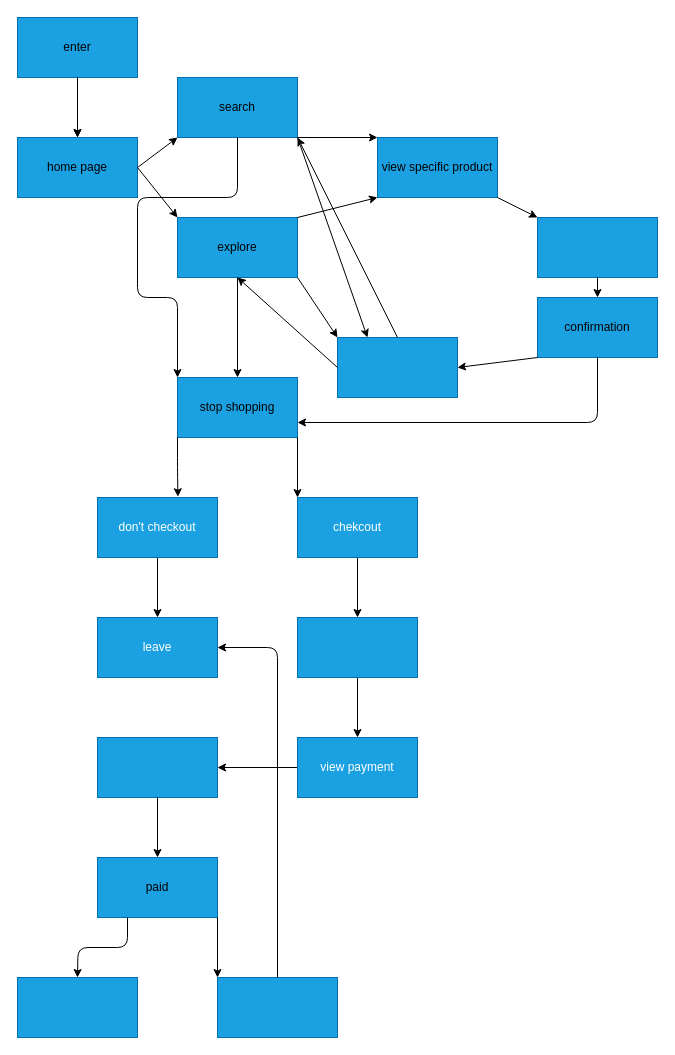
Image size: 675x1055. Some labels were removed from this diagram. Each missing label, with the centre of its shape:
add to cart: the point at 597,247
continue shopping: the point at 397,367
email: the point at 77,1007
input payment information: the point at 157,767
order confirmation: the point at 277,1007
view cart: the point at 357,647
